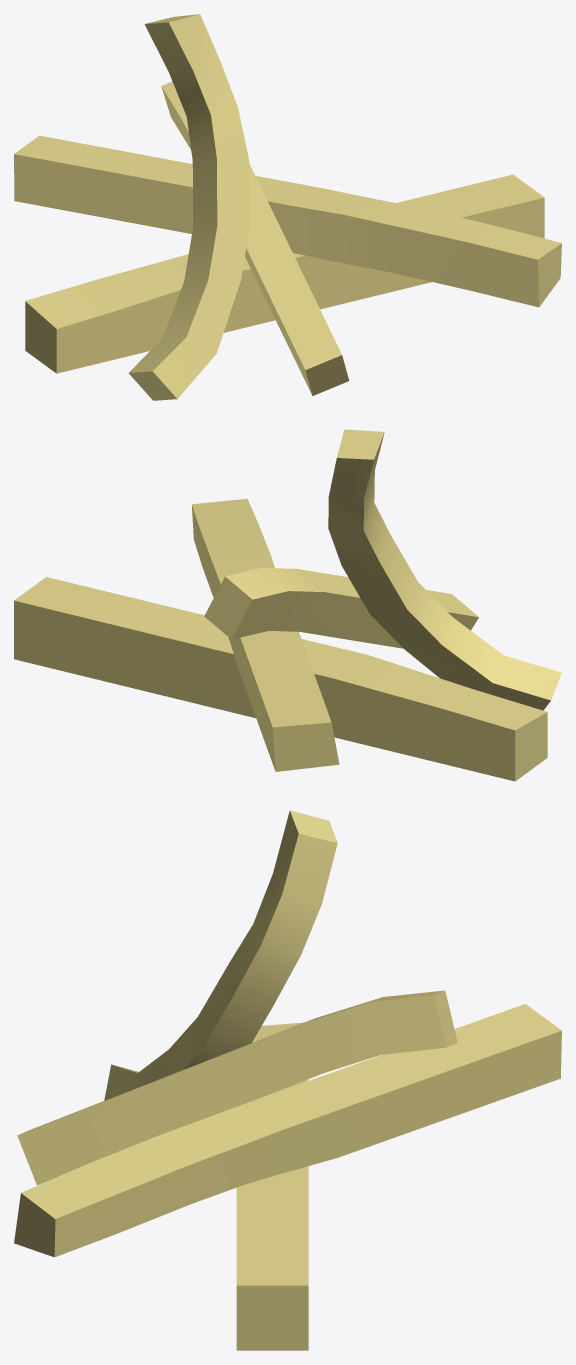
File: fries.fbx
3 views of the same model, one above another, from view 1: azimuth 30°, elevation 25°; view 2: azimuth 150°, elevation 25°; view 3: azimuth 270°, elevation 25° (orthographic). The views are drawn at different scales.
Visible parts, largest first — view 1: pCube3, pCube1, pCube5, pCube4; view 2: pCube1, pCube5, pCube3, pCube4; view 3: pCube3, pCube4, pCube5, pCube1.
Part boxes in pixels (left/top/right/bottom): pCube3: left=14, top=135, right=561, bottom=307; pCube1: left=25, top=174, right=544, bottom=373; pCube5: left=129, top=14, right=249, bottom=400; pCube4: left=161, top=81, right=349, bottom=395; pCube1: left=14, top=577, right=547, bottom=781; pCube5: left=328, top=429, right=561, bottom=710; pCube3: left=192, top=498, right=339, bottom=771; pCube4: left=204, top=567, right=478, bottom=648; pCube3: left=14, top=1004, right=561, bottom=1257; pCube4: left=17, top=990, right=457, bottom=1185; pCube5: left=104, top=810, right=337, bottom=1100; pCube1: left=236, top=1022, right=308, bottom=1350.
Size of the model in its own units: 8.94 by 5.45 by 7.62.
